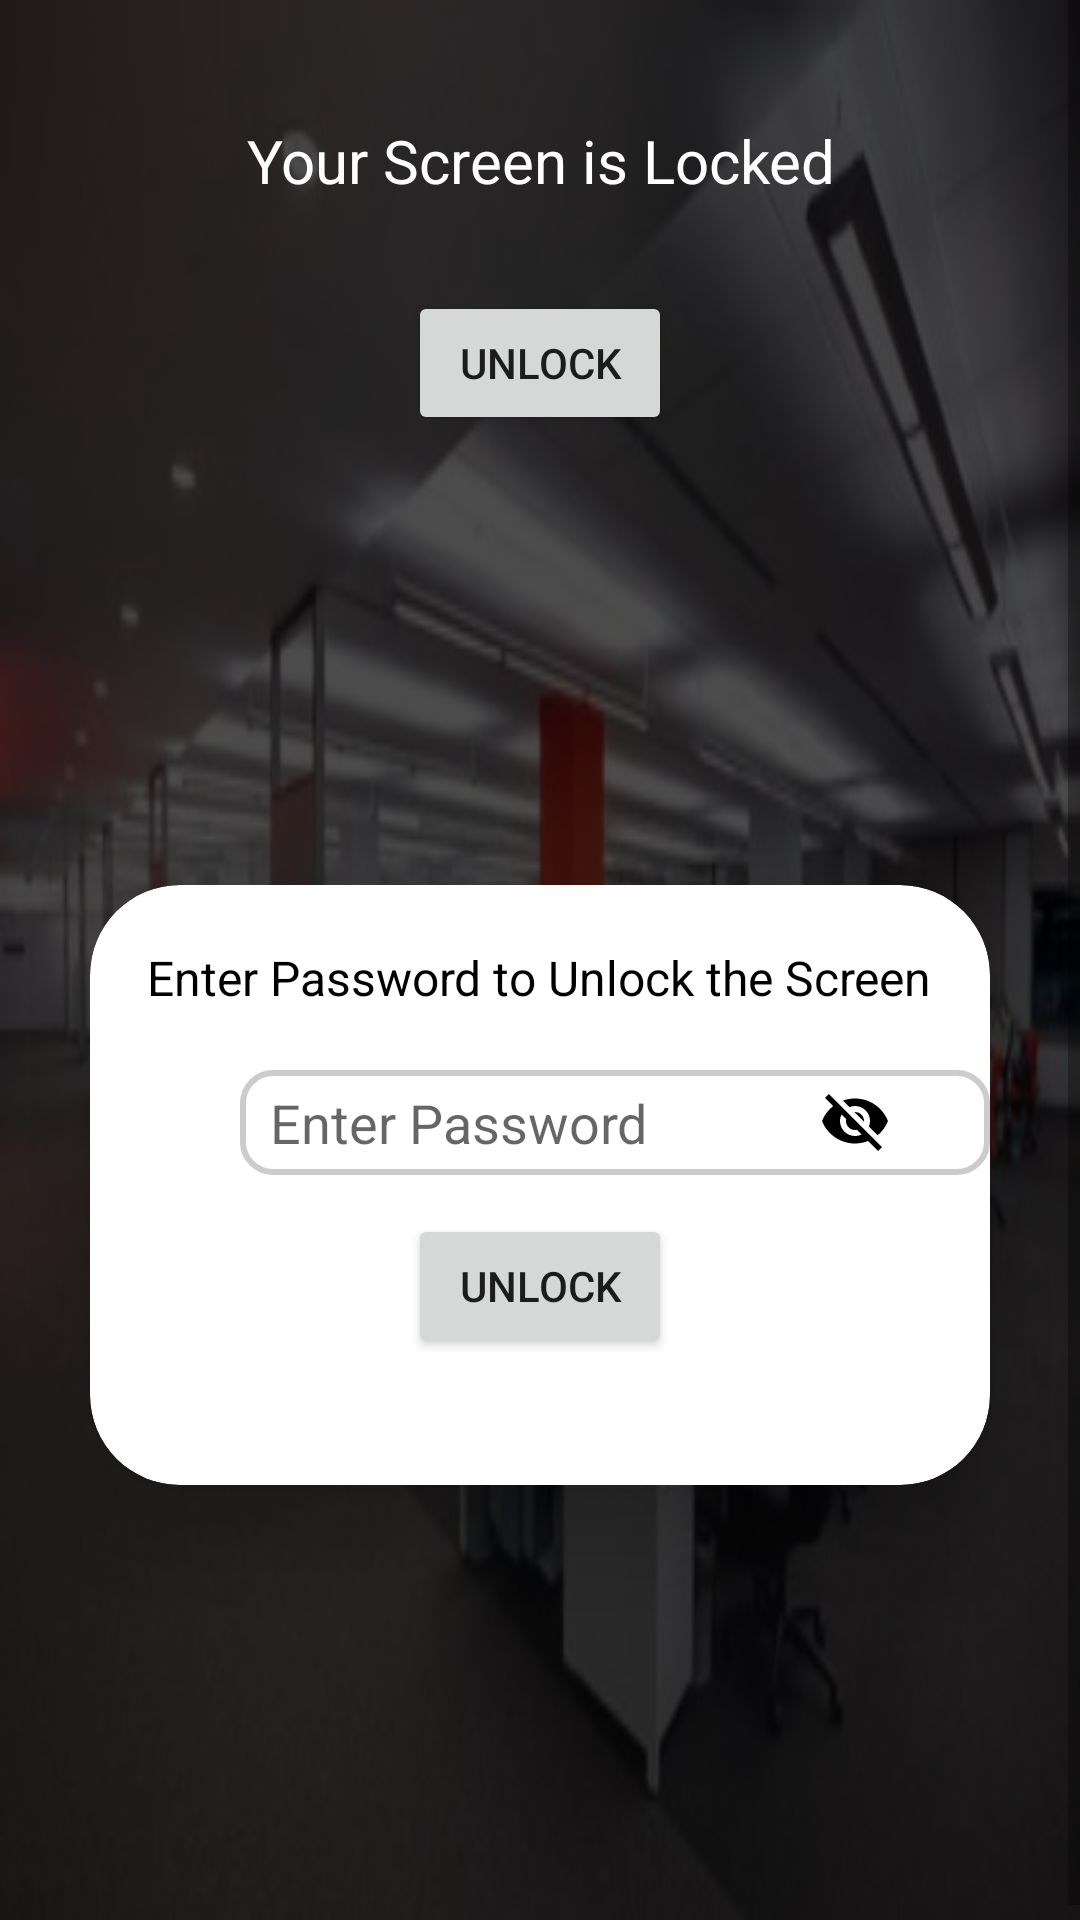

Where to tap for icons on this 1080x1920 app screen, as (x=x, y=y):
lock visibility off: (x=855, y=1122)
